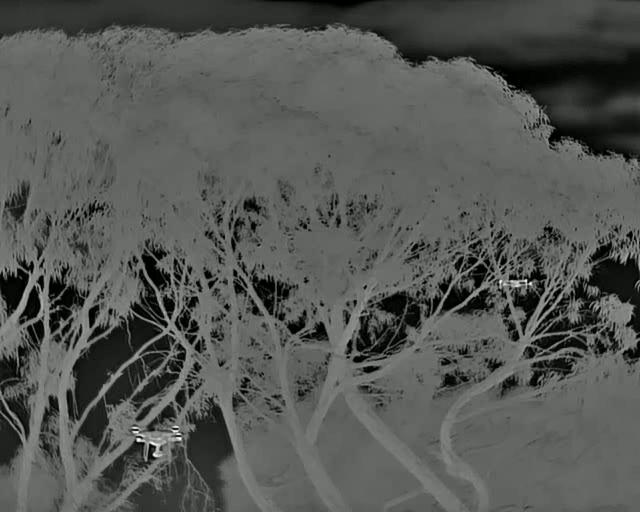DJI-Phantom: (127, 421, 186, 464)
